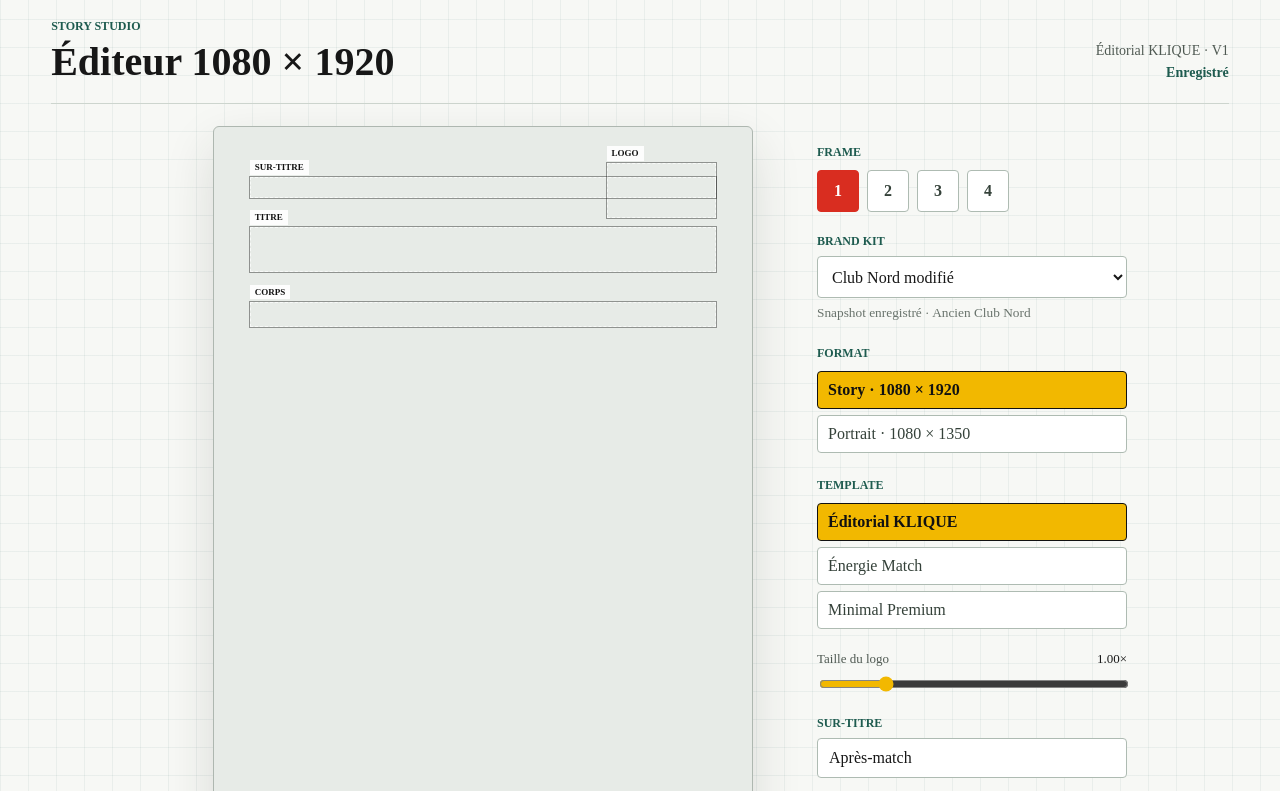
Scenario: saved Story Studio editor › shows the native Instagram sticker guide only as an editor overlay
This screenshot has width=1280, height=791.
Click the tab named "Frame 3 · Sondage".
click(938, 191)  # box [917,170,959,212]
(page scrolled)
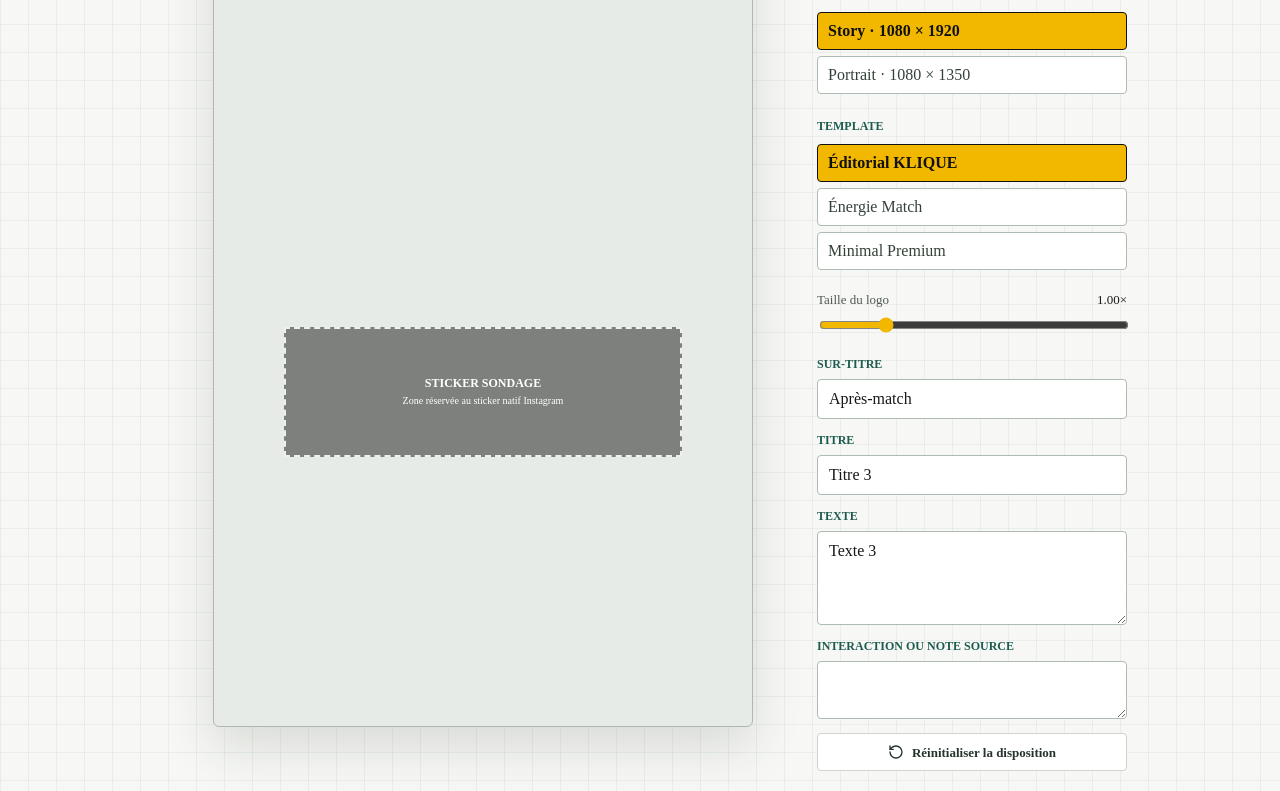
Expected: the element named "Zone du sticker Sondage Instagram" is shown, [284,327,682,456]
Expected: the text "Zone réservée au sticker natif Instagram" is shown, [403,394,563,407]
